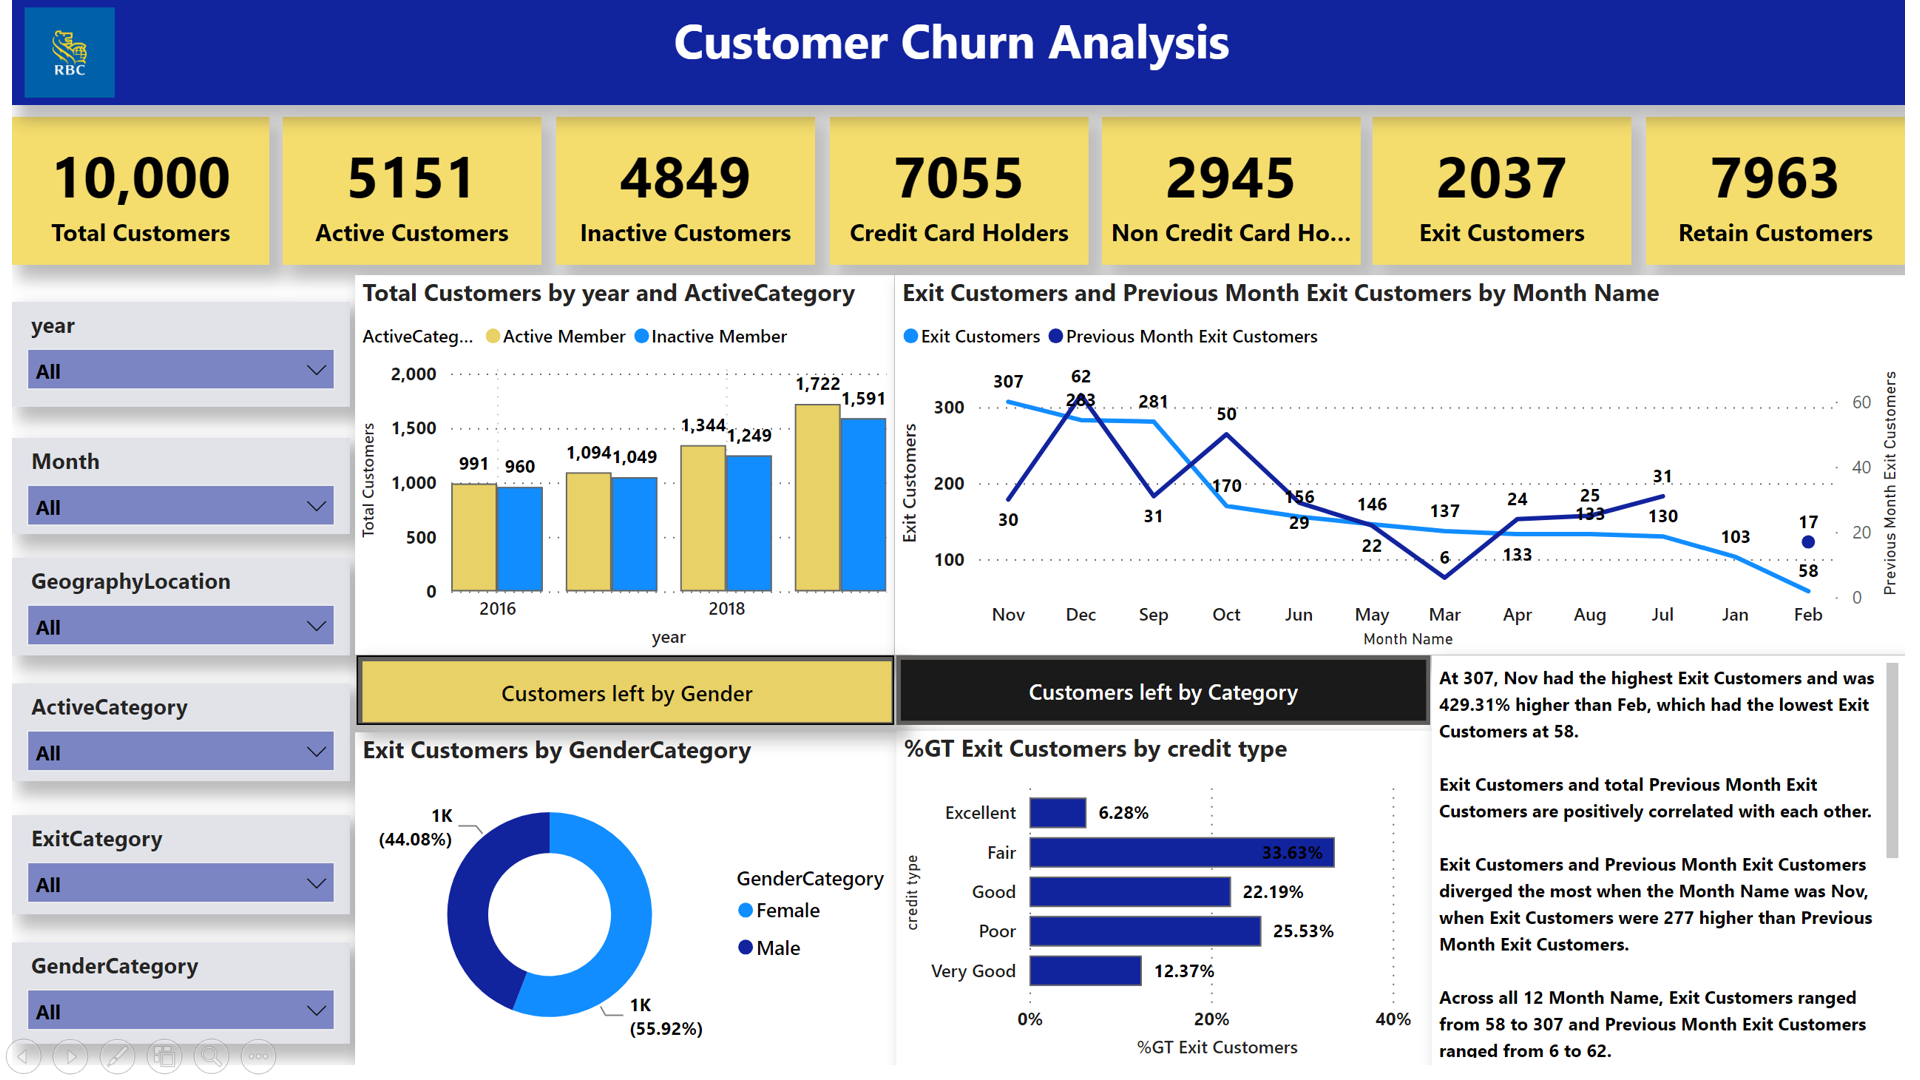

Layout of this report page (visuals, bound fields, positions):
{"tool":"powerbi","page":{"name":"Page 1","canvas":[1280,720],"ordinal":0},"visuals":[{"type":"card","fields":{"Values":["Calculations.Total Customers"]},"box":[0,79,174,100],"z":0},{"type":"card","fields":{"Values":["Calculations.Active Customers"]},"box":[183.4,79.5,174.8,100.2],"z":1000},{"type":"card","fields":{"Values":["Calculations.Inactive Customers"]},"box":[367.9,79.5,174.8,100.2],"z":2000},{"type":"card","fields":{"Values":["Calculations.Credit Card Holders"]},"box":[552.5,79.5,174.8,100.2],"z":3000},{"type":"card","fields":{"Values":["Calculations.Non Credit Card Holders"]},"box":[737.1,79.5,174.8,100.2],"z":4000},{"type":"card","fields":{"Values":["Calculations.Exit Customers"]},"box":[920.5,79.5,174.8,100.2],"z":5000},{"type":"card","fields":{"Values":["Calculations.Retain Customers"]},"box":[1105.1,79.5,174.8,100.2],"z":6000},{"type":"textbox","box":[0,0,1279.8,70.8],"z":7000},{"type":"shape","box":[0,105.1,1279.9,160.1],"z":8000},{"type":"shape","box":[0,180.9,464.5,539.1],"z":9000},{"type":"slicer","fields":{"Values":["DateMaster.year"]},"box":[0,204.1,228.6,70.9],"z":10000},{"type":"slicer","fields":{"Values":["DateMaster.Month"]},"box":[0,295.8,228.6,64.8],"z":11000},{"type":"slicer","fields":{"Values":["Geography.GeographyLocation"]},"box":[0,376.5,228.6,66],"z":12000},{"type":"slicer","fields":{"Values":["ActiveCustomer.ActiveCategory"]},"box":[0,462.1,228.6,66],"z":13000},{"type":"slicer","fields":{"Values":["ExitCustomer.ExitCategory"]},"box":[0,551.3,228.6,67.2],"z":14000},{"type":"slicer","fields":{"Values":["Gender.GenderCategory"]},"box":[0,636.9,228.6,68.5],"z":15000},{"type":"clusteredColumnChart","fields":{"Category":["DateMaster.year","DateMaster.Month Name"],"Y":["Calculations.Total Customers"],"Series":["ActiveCustomer.ActiveCategory"]},"box":[232.3,185.8,364.3,256.7],"z":16000},{"type":"lineChart","fields":{"Category":["DateMaster.Month Name"],"Y":["Calculations.Exit Customers"],"Y2":["Calculations.Previous Month Exit Customers"]},"box":[596.5,185.8,683.3,256.7],"z":17000},{"type":"donutChart","fields":{"Category":["Gender.GenderCategory"],"Y":["Calculations.Exit Customers"]},"box":[232.3,495.1,385.1,224.9],"z":18000},{"type":"clusteredBarChart","fields":{"Category":["Bank_Churn.credit type"],"Y":["Calculations.Exit Customers"]},"box":[598.1,494.4,362.1,225.8],"z":19000},{"type":"textbox","box":[1341.4,584.3,320,224.3],"z":21000},{"type":"textbox","box":[959.5,443.1,320.3,276.8],"z":22001},{"type":"actionButton","box":[233.4,443.1,363.7,47.2],"z":22002},{"type":"actionButton","box":[598.3,443.1,361.2,47.2],"z":22003},{"type":"image","box":[0,0,78.2,70.8],"z":22004}]}

Visuals, with their boxes in screenshot pixels (x1, y1, x2, y2), scaled from the page's 1280x720 canvas onto the 1920x1080 screenshot:
card - Calculations.Total Customers: 0:118:261:268
card - Calculations.Active Customers: 275:119:537:270
card - Calculations.Inactive Customers: 552:119:814:270
card - Calculations.Credit Card Holders: 829:119:1091:270
card - Calculations.Non Credit Card Holders: 1106:119:1368:270
card - Calculations.Exit Customers: 1381:119:1643:270
card - Calculations.Retain Customers: 1658:119:1919:270
textbox: 0:0:1919:106
shape: 0:158:1919:398
shape: 0:271:697:1079
slicer - DateMaster.year: 0:306:343:412
slicer - DateMaster.Month: 0:444:343:541
slicer - Geography.GeographyLocation: 0:565:343:664
slicer - ActiveCustomer.ActiveCategory: 0:693:343:792
slicer - ExitCustomer.ExitCategory: 0:827:343:928
slicer - Gender.GenderCategory: 0:955:343:1058
clusteredColumnChart - DateMaster.year x DateMaster.Month Name: 348:279:895:664
lineChart - DateMaster.Month Name x Calculations.Exit Customers: 895:279:1919:664
donutChart - Gender.GenderCategory x Calculations.Exit Customers: 348:743:926:1079
clusteredBarChart - Bank_Churn.credit type x Calculations.Exit Customers: 897:742:1440:1079
textbox: 1439:665:1919:1079
actionButton: 350:665:896:735
actionButton: 897:665:1439:735
image: 0:0:117:106
